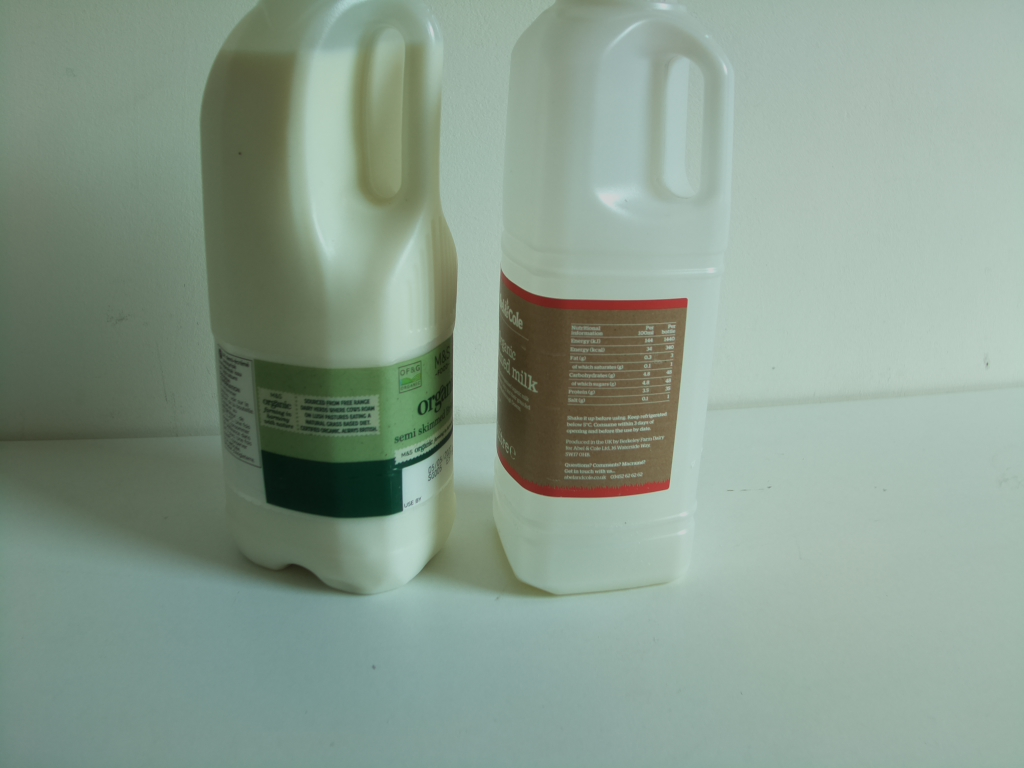milk: (191, 1, 459, 598), (491, 1, 740, 603)
